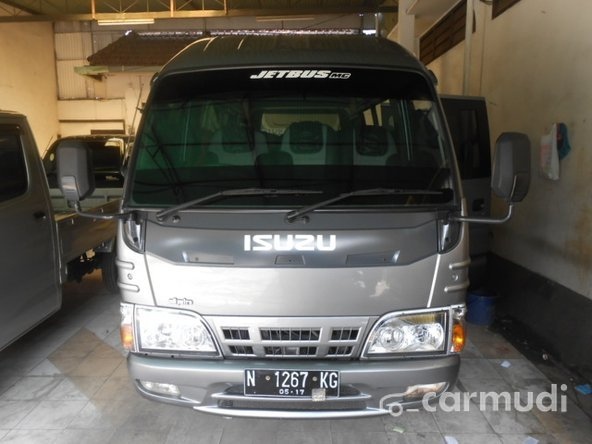plate: (244, 368, 338, 399)
